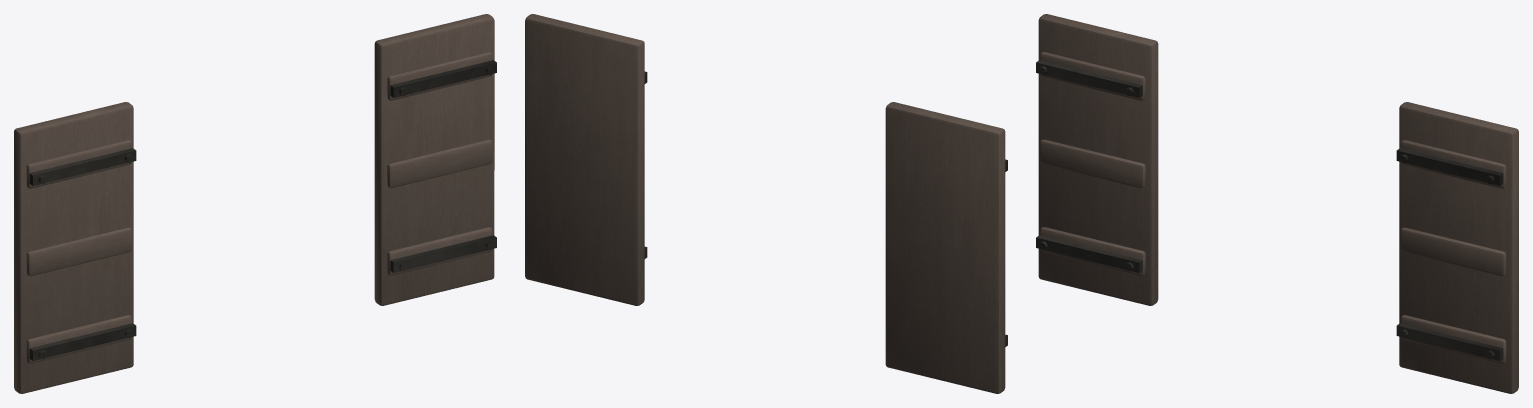
File: FShutter_Pair_Red.gltf
The picture shows the model from 3 angles, left to right: view 1: azimuth 30°, elevation 25°; view 2: azimuth 150°, elevation 25°; view 3: azimuth 330°, elevation 25°; orthographic projection.
Visible parts, largest first — view 1: FShutter_Pair_Red; view 2: FShutter_Pair_Red; view 3: FShutter_Pair_Red.
Boxes of the visible parts, x1,y1,x2,y2 form: FShutter_Pair_Red: (14, 14, 496, 393); FShutter_Pair_Red: (525, 14, 1007, 393); FShutter_Pair_Red: (1036, 14, 1518, 393).
Bounding box in the file's own units: 1.82 × 0.96 × 0.1112.
Materials: 2 (2 with a texture image).
